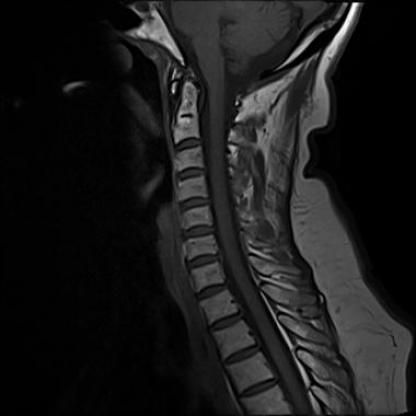Disc Bulgerotation: (182, 250, 224, 273), (180, 219, 216, 242)
